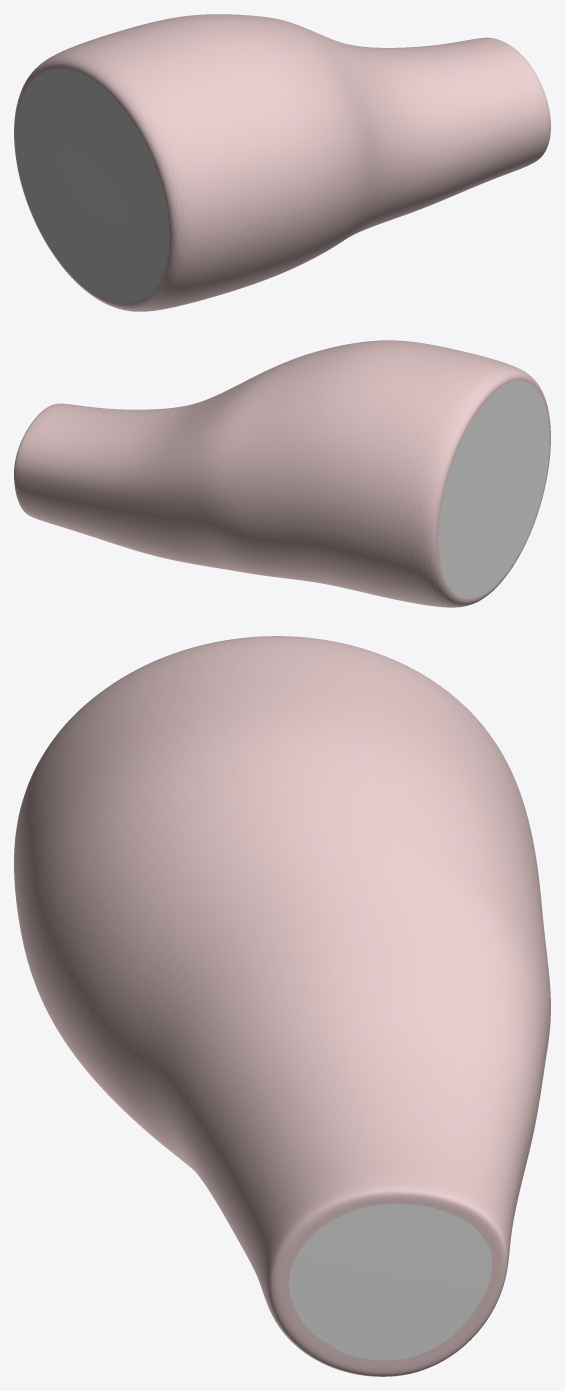
File: meat.fbx
The picture shows the model from 3 angles, top to bottom: view 1: azimuth 30°, elevation 25°; view 2: azimuth 150°, elevation 25°; view 3: azimuth 270°, elevation 25°; orthographic projection. The views are drawn at different scales.
Visible parts, largest first — view 1: Sphere; view 2: Sphere; view 3: Sphere.
Boxes of the visible parts, x1=… form: Sphere: x1=14, y1=14, x2=550, y2=311; Sphere: x1=14, y1=340, x2=550, y2=607; Sphere: x1=14, y1=636, x2=550, y2=1376.
Bounding box in the file's own units: 1935 × 970 × 1154.
